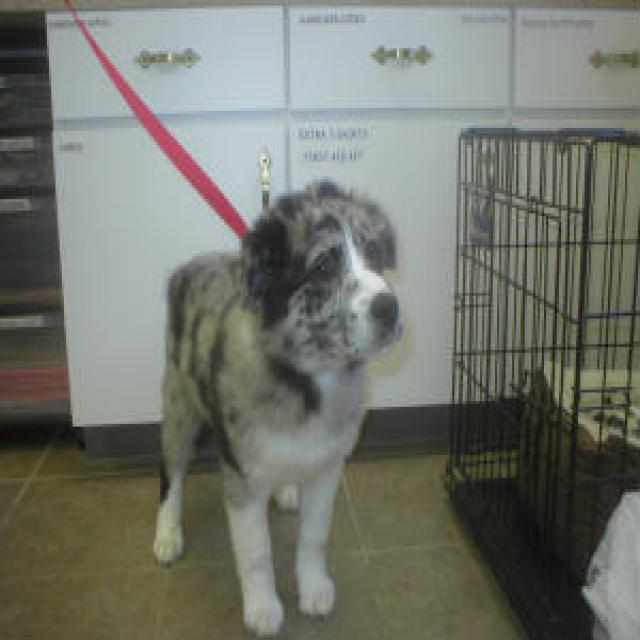Dogs: (152, 177, 403, 638)
